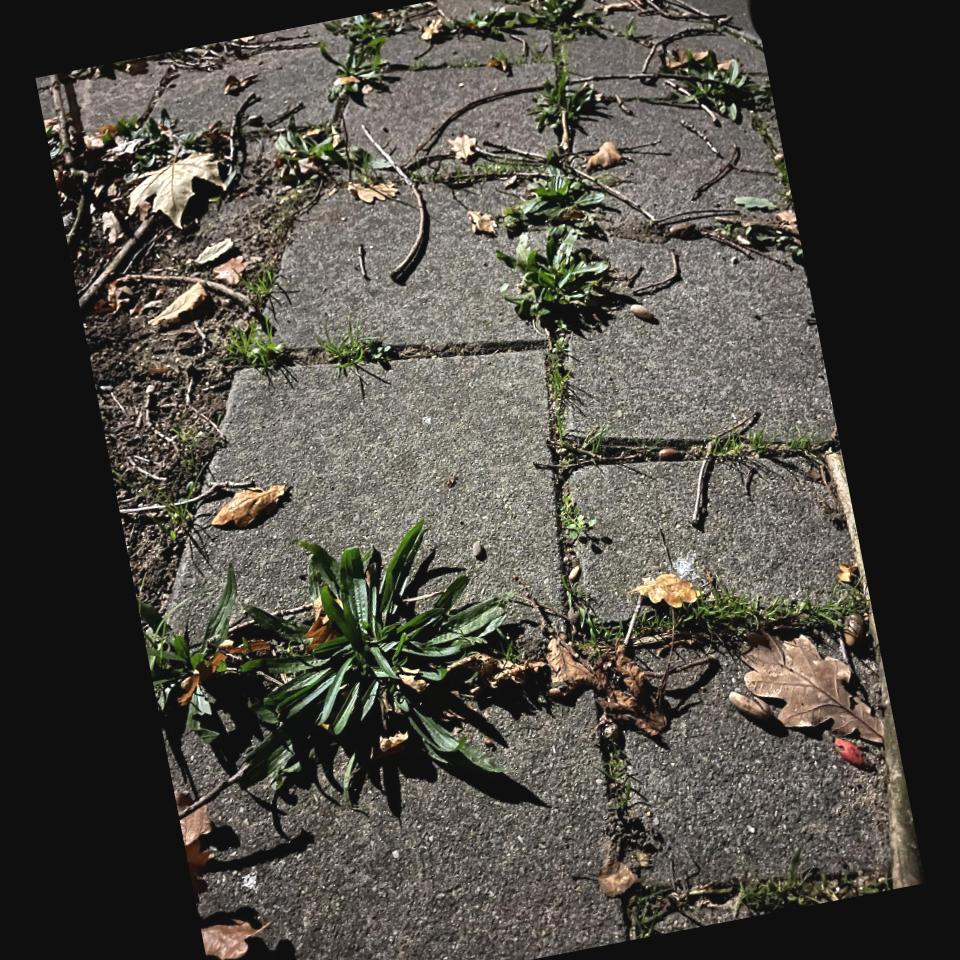weed: (153, 525, 519, 776), (512, 69, 607, 320), (445, 0, 599, 135), (574, 592, 849, 645), (671, 57, 768, 120), (227, 274, 289, 366), (334, 18, 387, 102), (318, 328, 380, 367)
